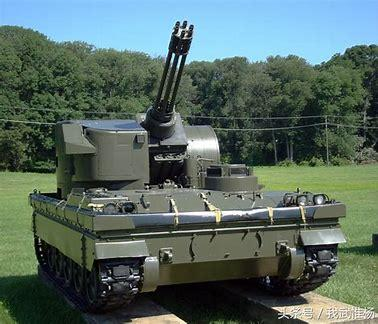MIL_SPG: (30, 21, 346, 311)
